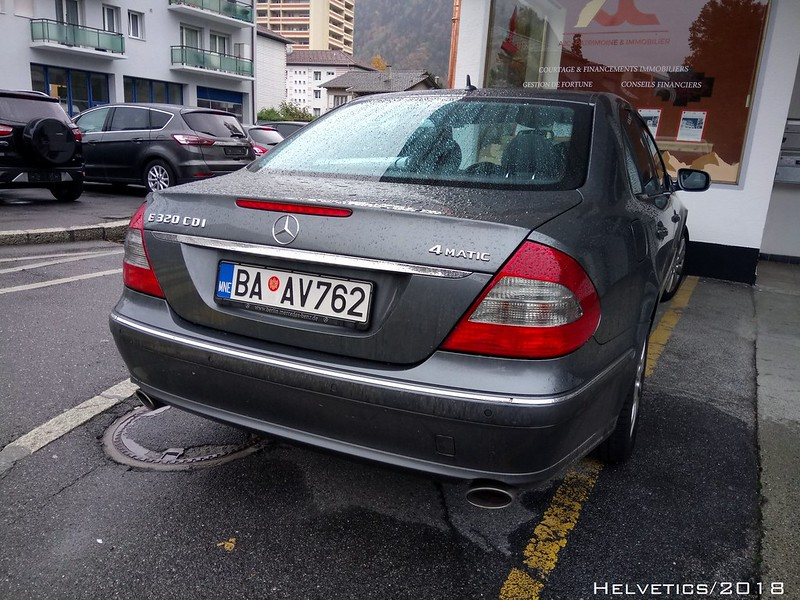number_plate: (204, 257, 383, 334)
